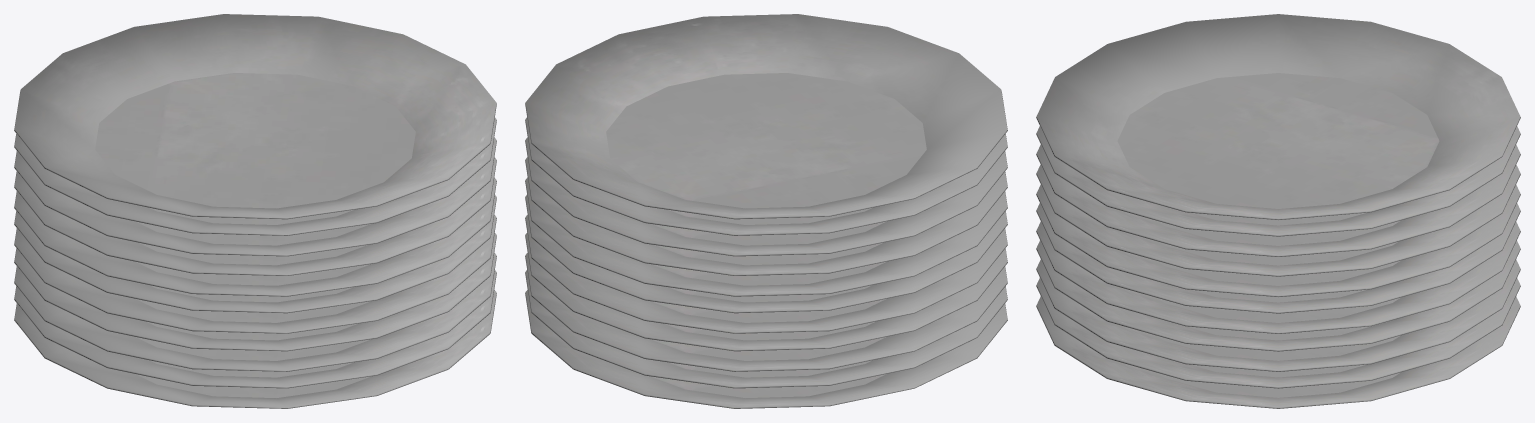
File: tray-stack.glb
3 views of the same model, side by side, from view 1: azimuth 30°, elevation 25°; view 2: azimuth 150°, elevation 25°; view 3: azimuth 270°, elevation 25° (orthographic).
Parts seen in each view (by area): view 1: SM_Plates_T_Plate_0; view 2: SM_Plates_T_Plate_0; view 3: SM_Plates_T_Plate_0.
Part boxes in pixels (box(x1,y1,x2,y2)): SM_Plates_T_Plate_0: box(14, 14, 496, 408); SM_Plates_T_Plate_0: box(525, 14, 1007, 408); SM_Plates_T_Plate_0: box(1036, 14, 1520, 408).
Bounding box in the file's own units: 0.264 × 0.1291 × 0.264.
Materials: 1 (1 with a texture image).
